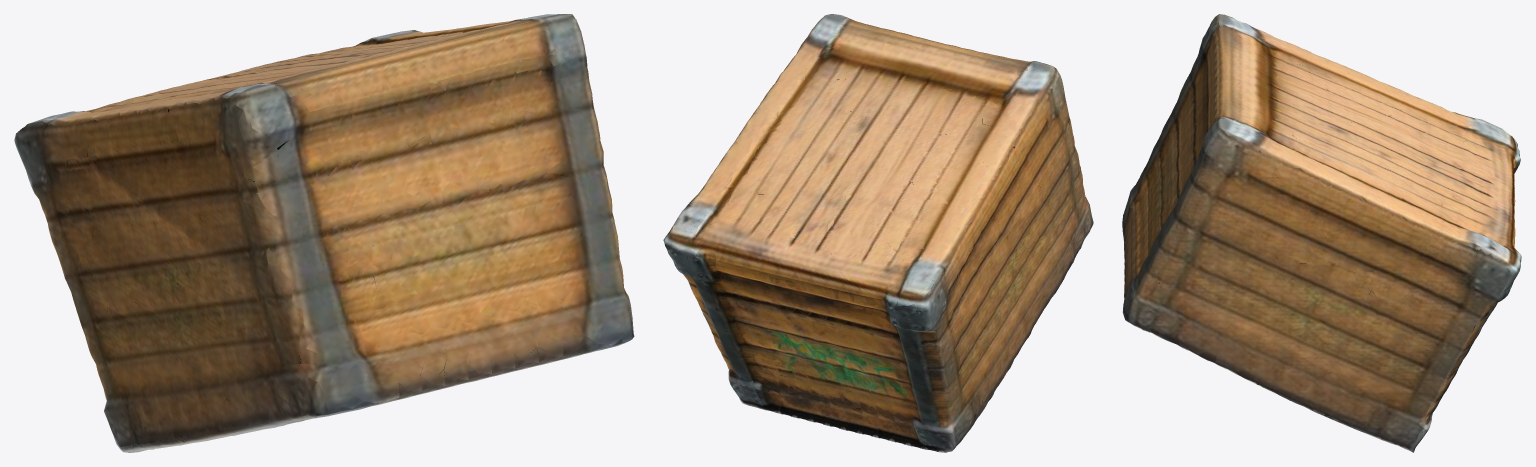
Rendered from wooden_box.glb.
3 renders of one model, left to right at view 1: azimuth 30°, elevation 25°; view 2: azimuth 150°, elevation 25°; view 3: azimuth 270°, elevation 25°, orthographic. The views are drawn at different scales.
Parts seen in each view (by area): view 1: world; view 2: world; view 3: world.
Boxes of the visible parts, x1,y1,x2,y2 form: world: (14,14,634,452); world: (663,14,1093,452); world: (1122,14,1521,452).
Bounding box in the file's own units: 0.7154 × 0.8319 × 0.9053.
Materials: 1 (1 with a texture image).
